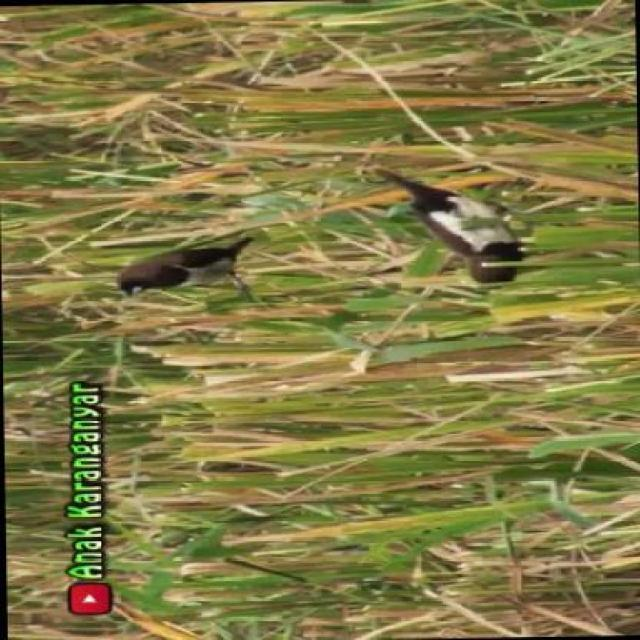Bird: (365, 157, 533, 290), (119, 231, 262, 304)
